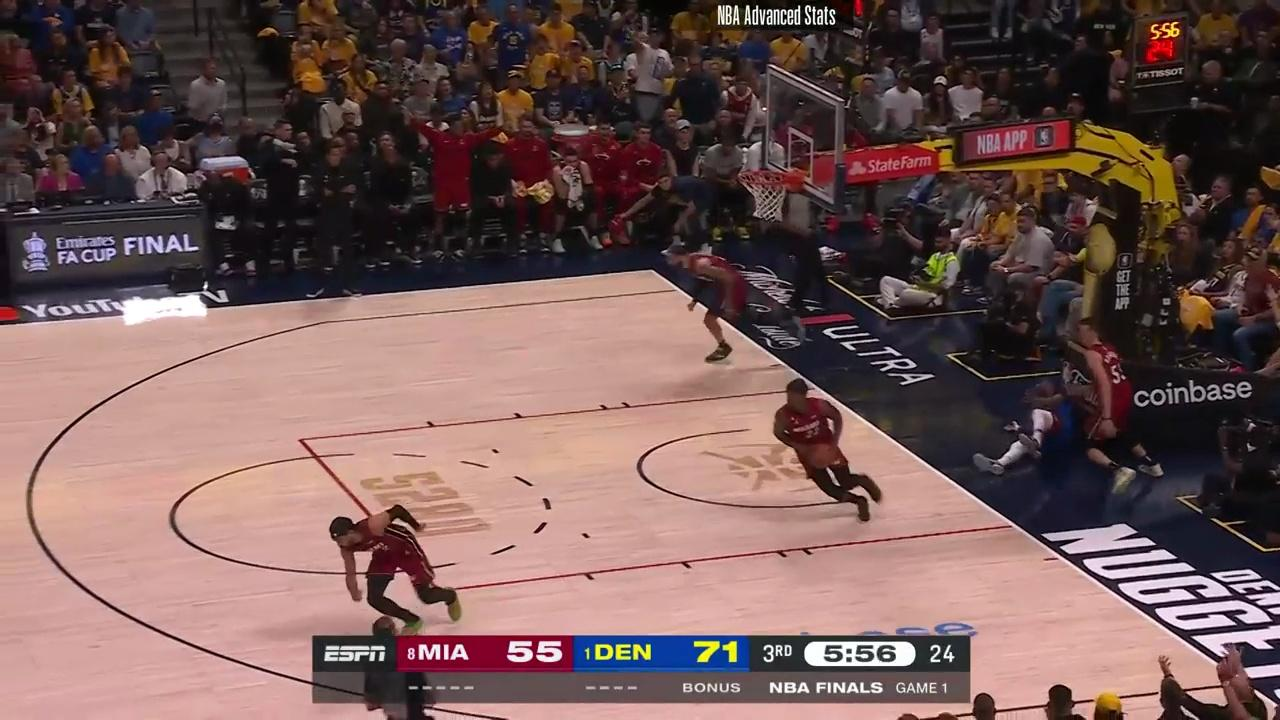Backboard: (770, 64, 844, 208)
Ball: (809, 444, 835, 468)
Basket: (743, 169, 796, 221)
Person: (1055, 308, 1170, 497), (328, 498, 475, 628), (766, 372, 885, 524), (672, 249, 765, 367)
Shot Clock: (1128, 9, 1194, 117)
